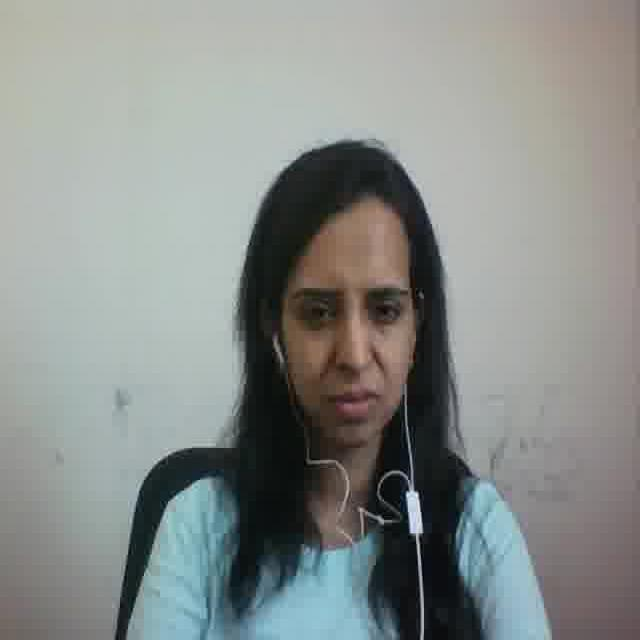Confusion: (276, 211, 412, 457)
